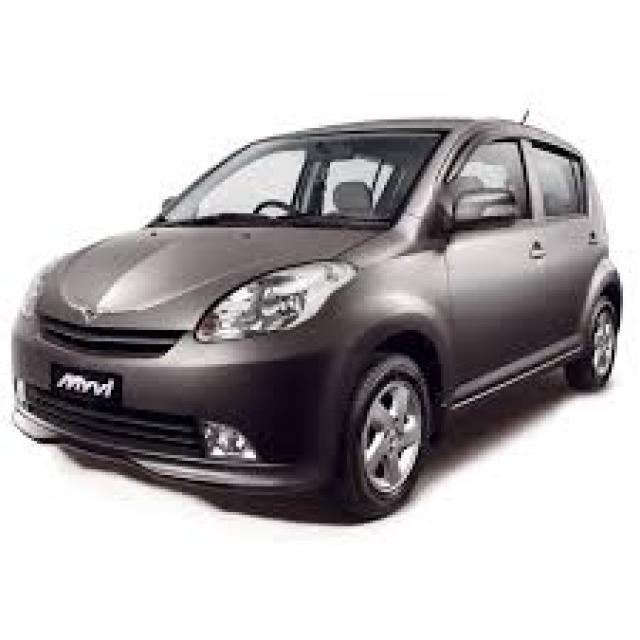PeroduaMyvi: (6, 108, 623, 521)
